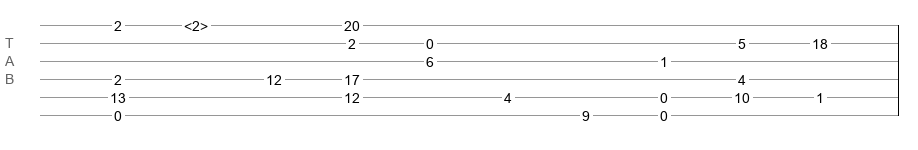0: (114, 108, 122, 118), (426, 36, 434, 46), (660, 108, 668, 118), (660, 90, 668, 100)
1: (660, 54, 668, 64), (816, 90, 824, 100)
10: (734, 90, 750, 100)
12: (266, 72, 282, 82), (344, 90, 360, 100)
13: (110, 90, 126, 100)
17: (344, 72, 360, 82)
18: (812, 36, 828, 46)
2: (114, 72, 122, 82), (114, 18, 122, 28), (348, 36, 356, 46)
20: (344, 18, 360, 28)
4: (504, 90, 512, 100), (738, 72, 746, 82)
5: (738, 36, 746, 46)
6: (426, 54, 434, 64)
9: (582, 108, 590, 118)
harmonic: (184, 18, 208, 28)
